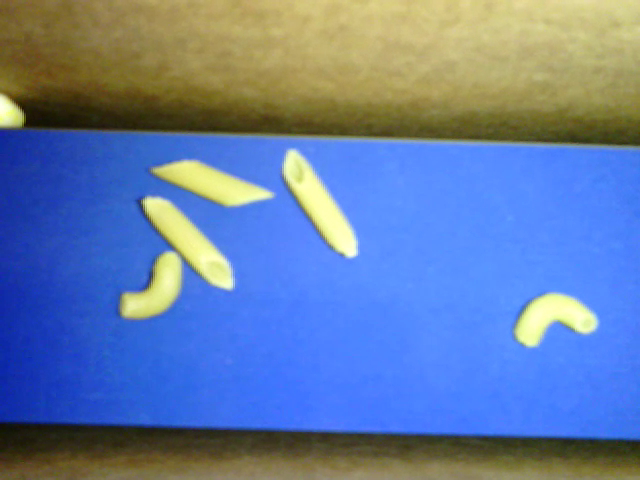elbow: (511, 291, 598, 348), (119, 250, 183, 319)
penne: (140, 196, 235, 293), (281, 147, 360, 260), (147, 159, 275, 208)
